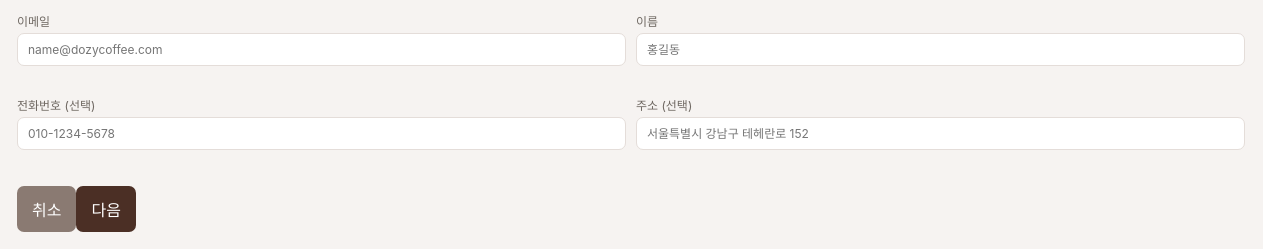
it: InviteEmployeeForm › 입력하는 동안에는 오류를 띄우지 않고 필드를 벗어나면 이유를 보여준다
Type "not-an-email" into the field labelled "이메일". click: (322, 50)
box: top-left (17, 33), bottom-right (626, 66)
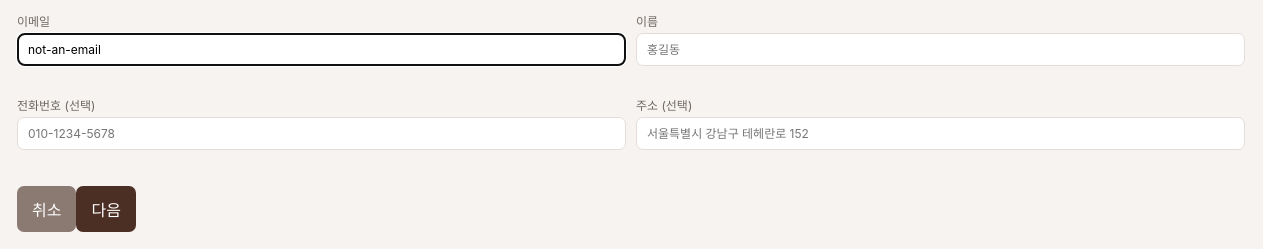
Check: the text "올바른 이메일 형식" is not shown
Press Tab
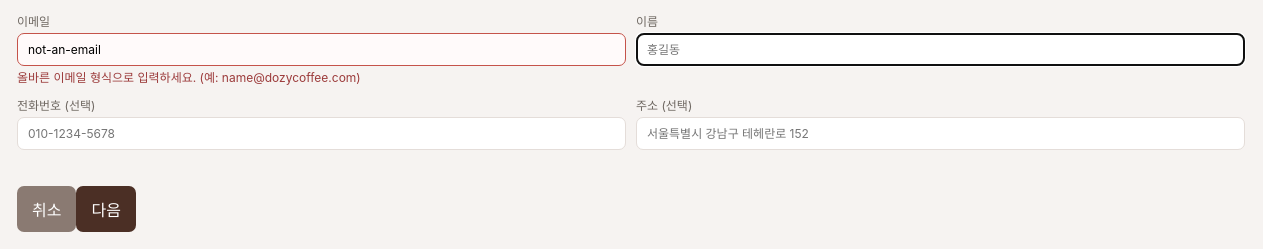
Check: the text "올바른 이메일 형식으로 입력하세요. (예: name@dozycoffee.com)" is shown, box top-left (17, 70), bottom-right (361, 85)
